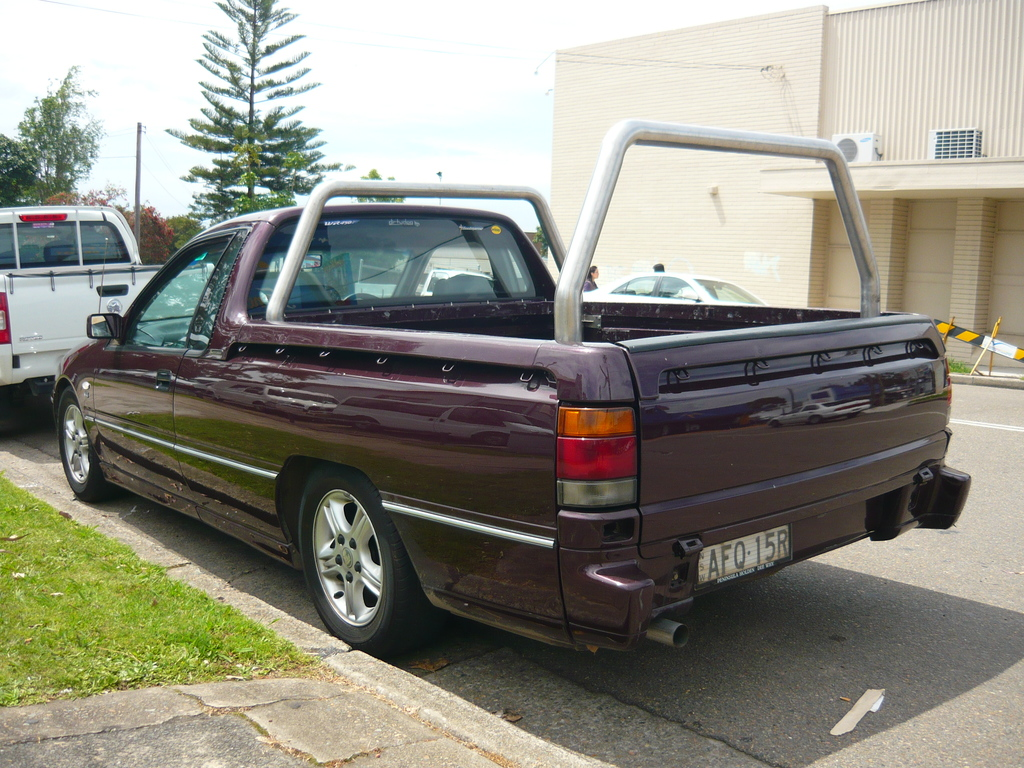license plate: (690, 549, 795, 588)
